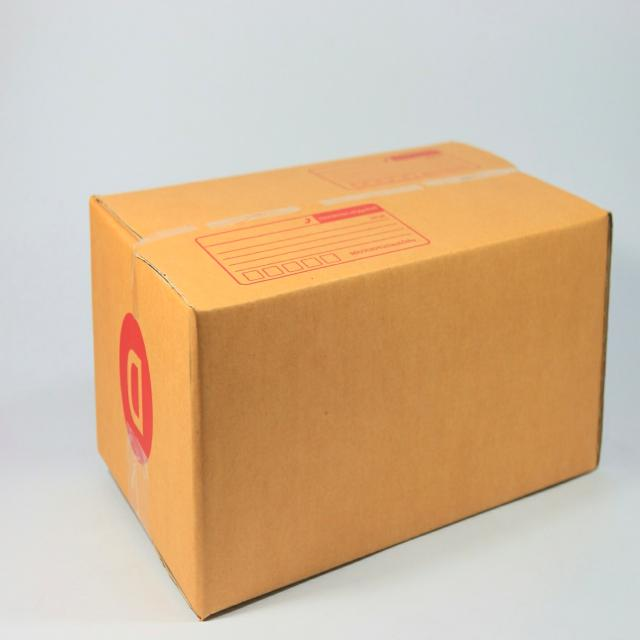box: (79, 103, 631, 635)
